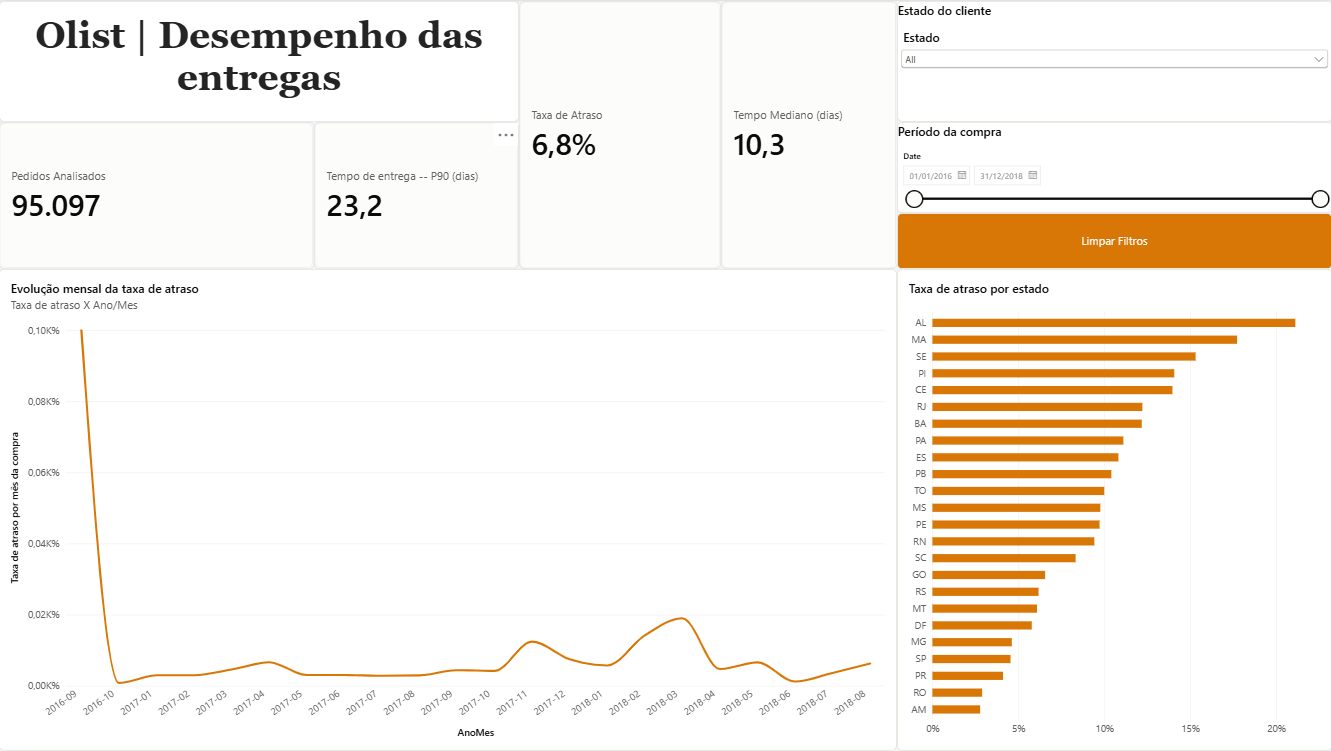

The dashboard page shown, as its layout file describes it:
{"tool":"powerbi","page":{"name":"Entregas","canvas":[1920,1080],"ordinal":1},"visuals":[{"type":"cardVisual","fields":{"Data":["FatoPedidos.Pedidos Analisados Entrega"]},"box":[0,174.3,453.7,211.7],"z":0},{"type":"cardVisual","fields":{"Data":["FatoPedidos.P90 Tempo Entrega"]},"box":[453.7,174.3,295.3,211.7],"z":1000},{"type":"cardVisual","fields":{"Data":["FatoPedidos.Tempo Mediano Entrega"]},"box":[1039.9,0,253.5,386],"z":2000},{"type":"lineChart","title":"Evolução mensal da taxa de atraso","fields":{"Category":["Calendario.AnoMes"],"Y":["FatoPedidos.Taxa de Atraso"]},"box":[0,386,1293.4,694.3],"z":3000},{"type":"slicer","title":"Período da compra","fields":{"Values":["Calendario.Date"]},"box":[1293.4,174.3,626.6,131.1],"z":4000},{"type":"slicer","title":"Estado do cliente","fields":{"Values":["FatoPedidos.customer_state"]},"box":[1293.4,0,626.6,174.3],"z":5000},{"type":"clusteredBarChart","title":"Taxa de atraso por estado","fields":{"Category":["FatoPedidos.customer_state"],"Y":["FatoPedidos.Taxa de Atraso"]},"box":[1293.4,386,626.6,694.3],"z":6000},{"type":"cardVisual","fields":{"Data":["FatoPedidos.Taxa de Atraso"]},"box":[749,0,291,386],"z":7000},{"type":"textbox","box":[0,0,749,174.3],"z":8000},{"type":"actionButton","box":[1293.4,305.4,626.6,80.7],"z":9000}]}

Visuals, with their boxes in screenshot pixels (x1, y1, x2, y2), scaled from the page's 1920x1080 canvas onto the 1331x751 screenshot:
cardVisual - FatoPedidos.Pedidos Analisados Entrega: [x1=0, y1=121, x2=315, y2=268]
cardVisual - FatoPedidos.P90 Tempo Entrega: [x1=315, y1=121, x2=519, y2=268]
cardVisual - FatoPedidos.Tempo Mediano Entrega: [x1=721, y1=0, x2=897, y2=268]
"Evolução mensal da taxa de atraso" lineChart: [x1=0, y1=268, x2=897, y2=750]
"Período da compra" slicer: [x1=897, y1=121, x2=1330, y2=212]
"Estado do cliente" slicer: [x1=897, y1=0, x2=1330, y2=121]
"Taxa de atraso por estado" clusteredBarChart: [x1=897, y1=268, x2=1330, y2=750]
cardVisual - FatoPedidos.Taxa de Atraso: [x1=519, y1=0, x2=721, y2=268]
textbox: [x1=0, y1=0, x2=519, y2=121]
actionButton: [x1=897, y1=212, x2=1330, y2=268]
